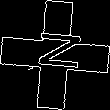N_W: (28, 33, 82, 77)
